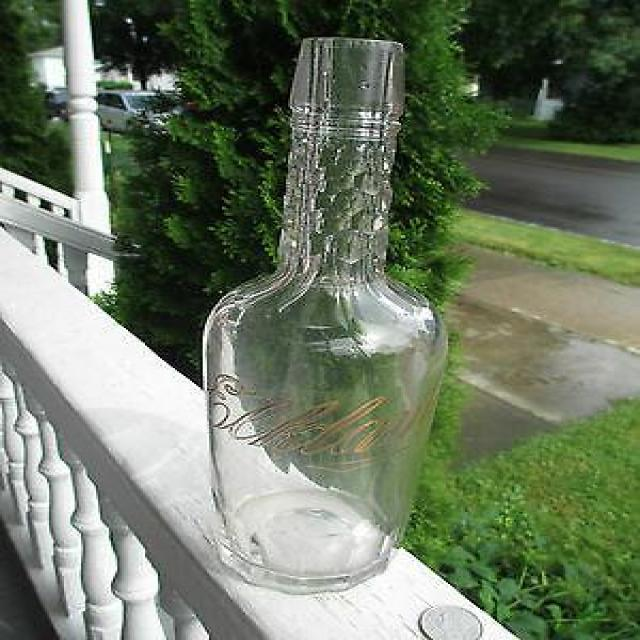non-organic waste: (196, 27, 448, 595)
